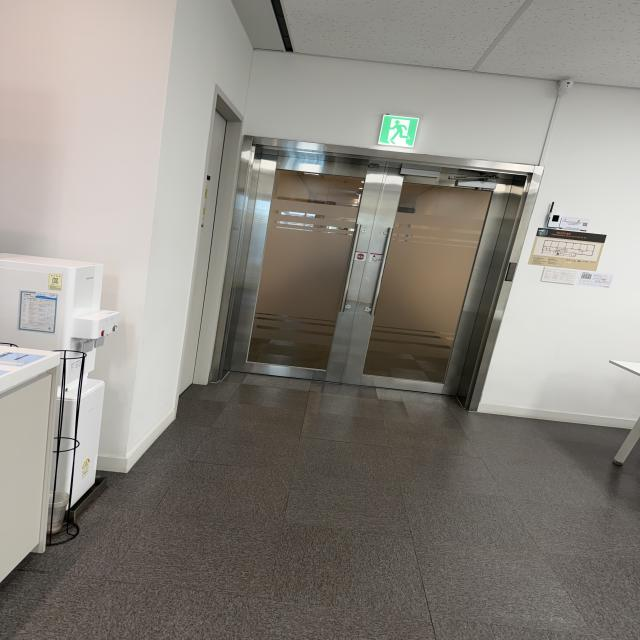rear_door: (234, 146, 490, 395)
